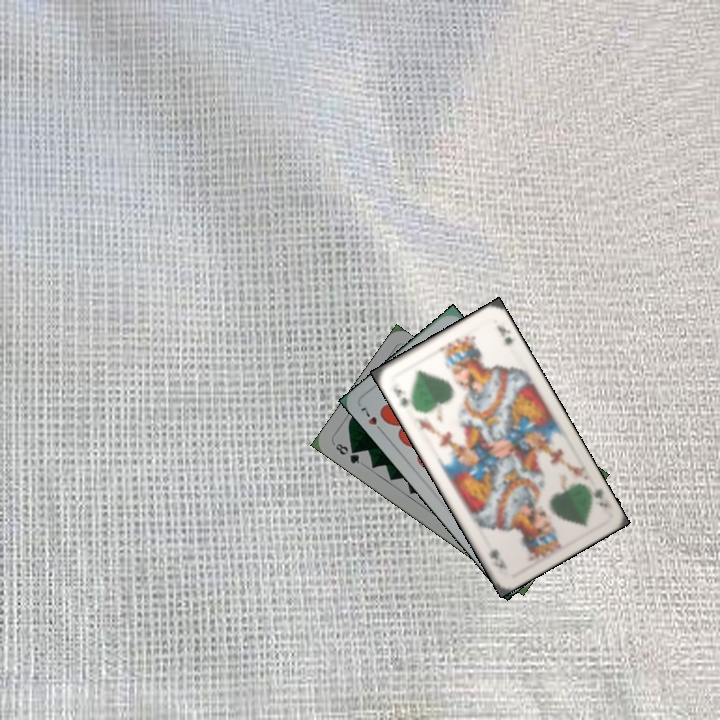G8: (330, 439, 362, 466)
GK: (389, 379, 412, 411), (590, 484, 610, 510)
H7: (357, 403, 387, 436)
